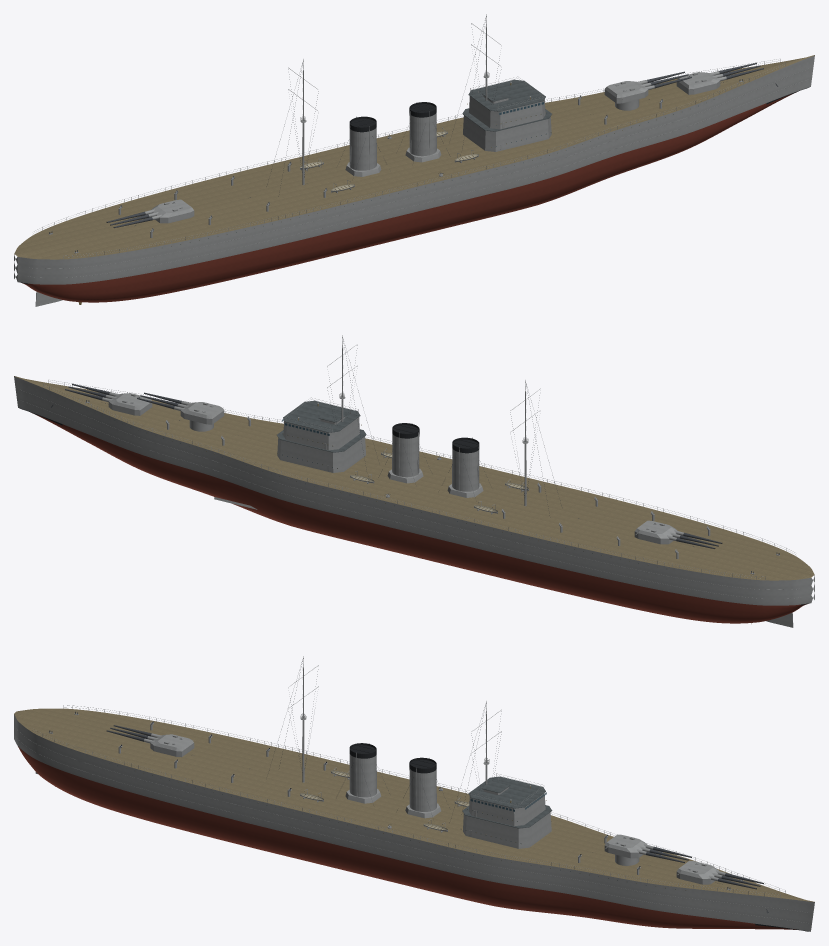
Rendered from mare_bb29.glb.
The picture shows the model from 3 angles, top to bottom: view 1: azimuth 30°, elevation 25°; view 2: azimuth 150°, elevation 25°; view 3: azimuth 330°, elevation 25°; orthographic projection.
Visible parts, largest first — view 1: Italia fast battleship; view 2: Italia fast battleship; view 3: Italia fast battleship.
Boxes of the visible parts, x1,y1,x2,y2 form: Italia fast battleship: (14,14,814,306); Italia fast battleship: (14,335,814,627); Italia fast battleship: (14,656,814,931).
Bounding box in the file's own units: 232 × 51.4 × 30.09.
Materials: 9 (8 with a texture image).
